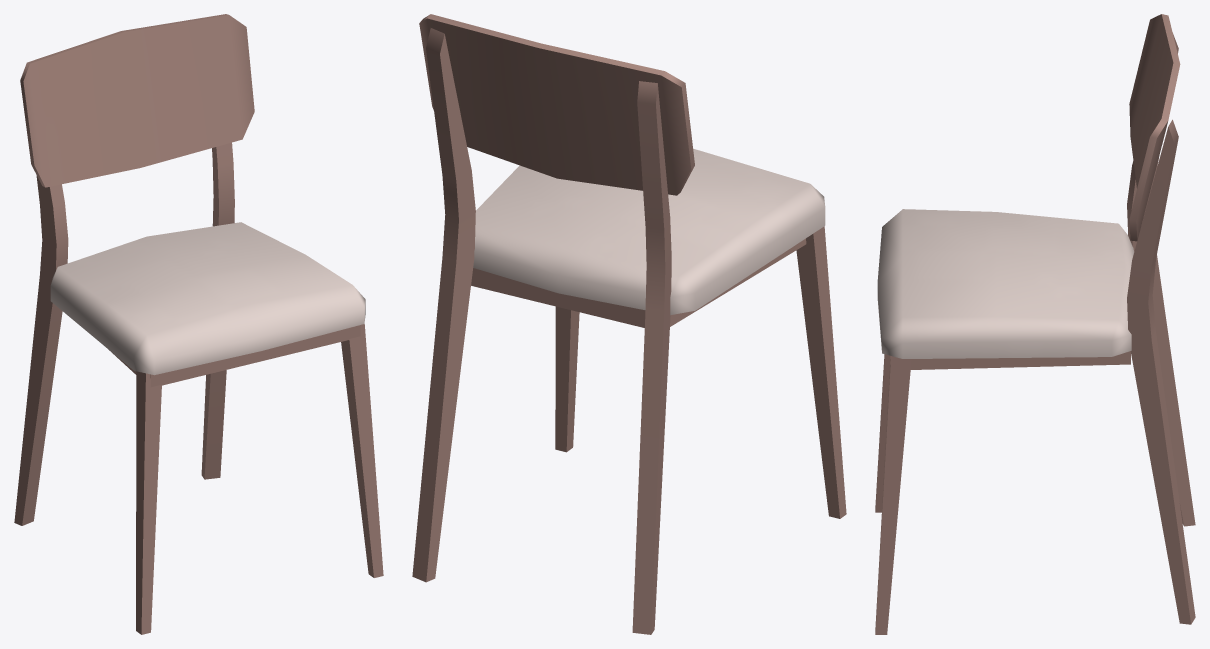
File: kitchen_chair_030.glb
3 renders of one model, left to right at view 1: azimuth 30°, elevation 25°; view 2: azimuth 150°, elevation 25°; view 3: azimuth 270°, elevation 25°, orthographic. The views are drawn at different scales.
Visible parts, largest first — view 1: kitchen_chair_030; view 2: kitchen_chair_030; view 3: kitchen_chair_030.
Part boxes in pixels (x1,y1,x2,y2): kitchen_chair_030: (14, 14, 383, 634); kitchen_chair_030: (412, 14, 846, 634); kitchen_chair_030: (875, 14, 1195, 634).
Bounding box in the file's own units: 0.4639 × 0.8645 × 0.4935.
Materials: 1 (1 with a texture image).
